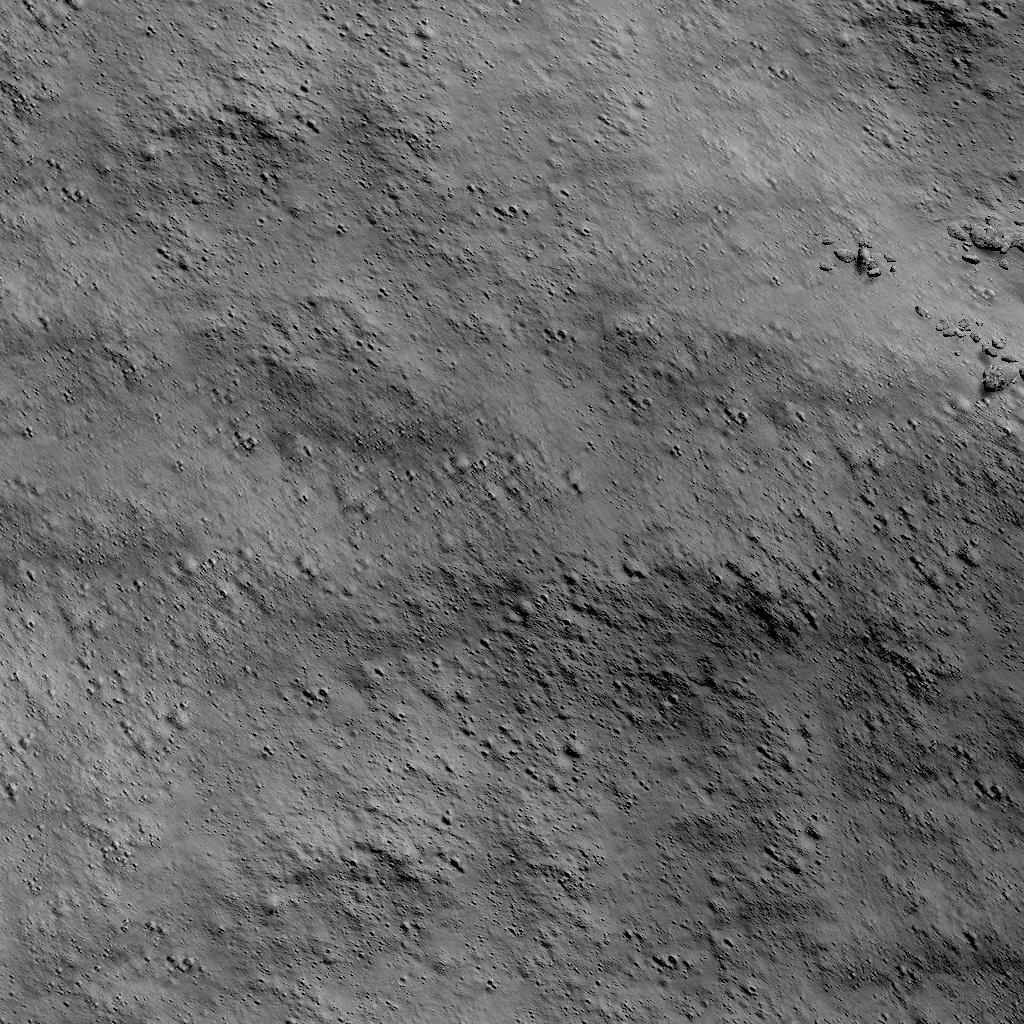Plan surface: (2, 62, 788, 1024), (817, 478, 1024, 1024), (813, 0, 1024, 186)
